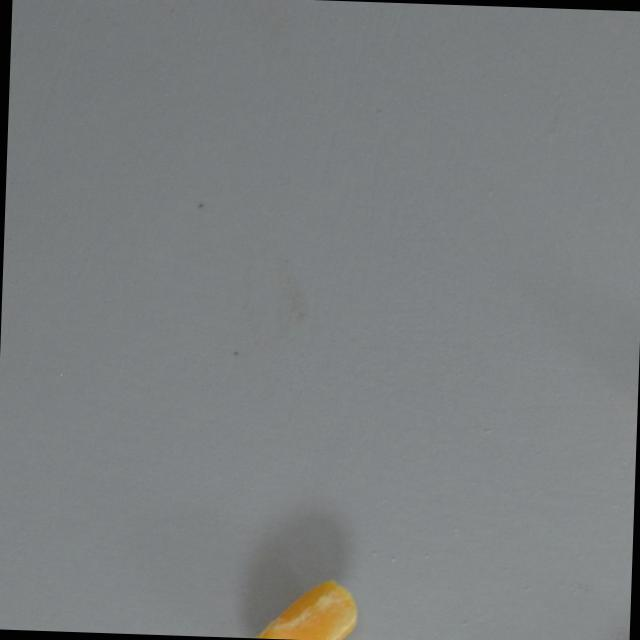dañado: (233, 572, 366, 640)
